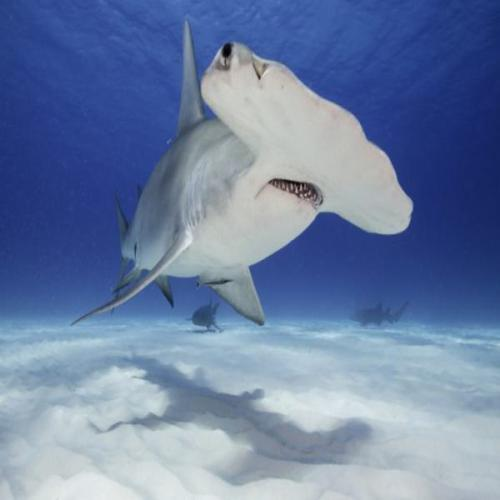shark-endangered: (68, 17, 412, 328)
